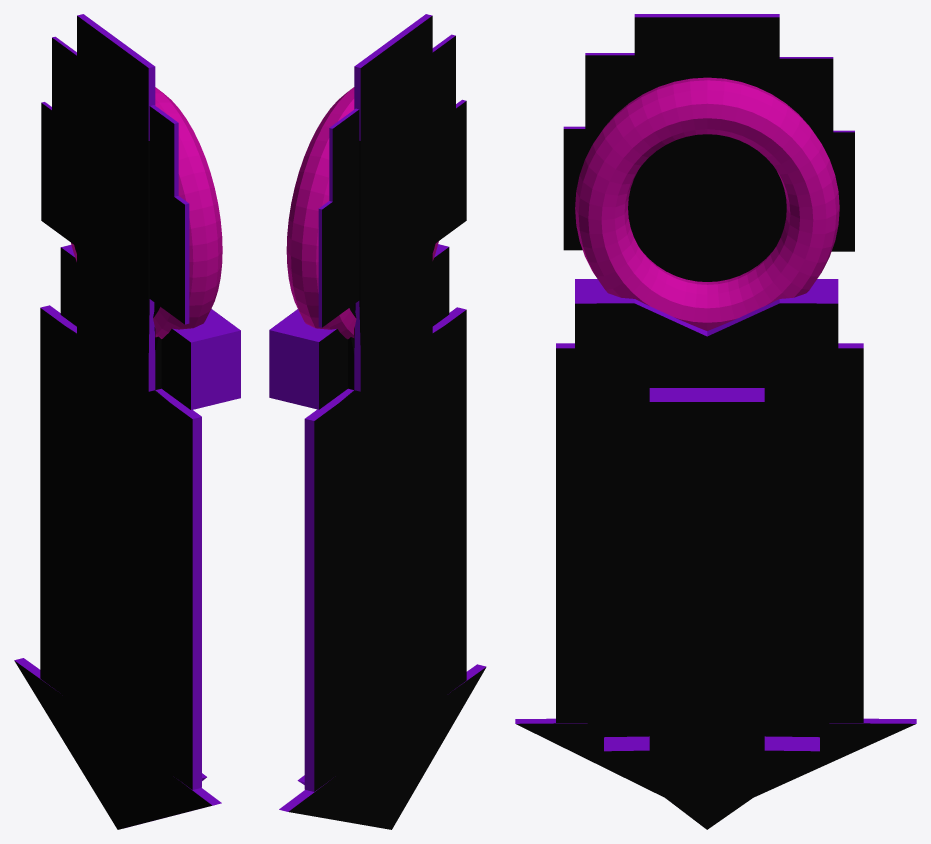
The model's file is Vacancy Sign.fbx.
3 renders of one model, left to right at view 1: azimuth 30°, elevation 25°; view 2: azimuth 150°, elevation 25°; view 3: azimuth 270°, elevation 25°, orthographic.
Parts seen in each view (by area): view 1: Cube (×3); view 2: Cube (×3); view 3: Cube (×3).
Boxes of the visible parts, bbox=[...] form: Cube (×3): bbox=[14, 14, 240, 829]; Cube (×3): bbox=[269, 14, 486, 829]; Cube (×3): bbox=[515, 14, 916, 829].
Bounding box in the file's own units: 127 × 1532 × 698.
